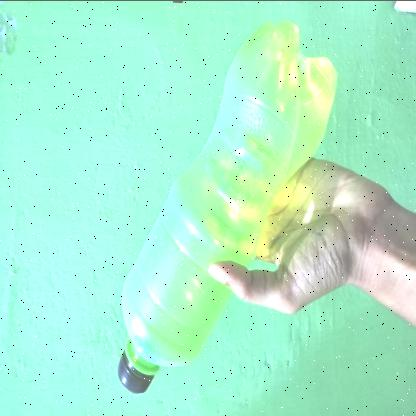Plastic Bottle: (116, 19, 338, 394)
